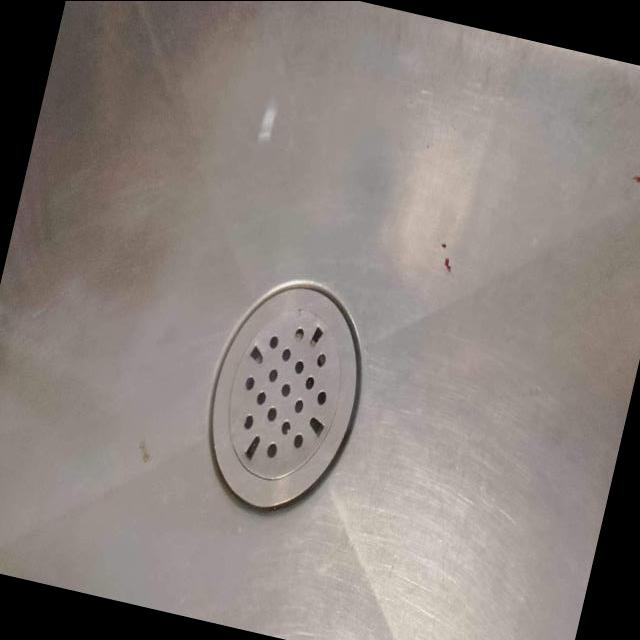General: (206, 278, 364, 512), (230, 309, 337, 476)
Pathological: (1, 3, 637, 639)
Sharps: (436, 239, 455, 276)
